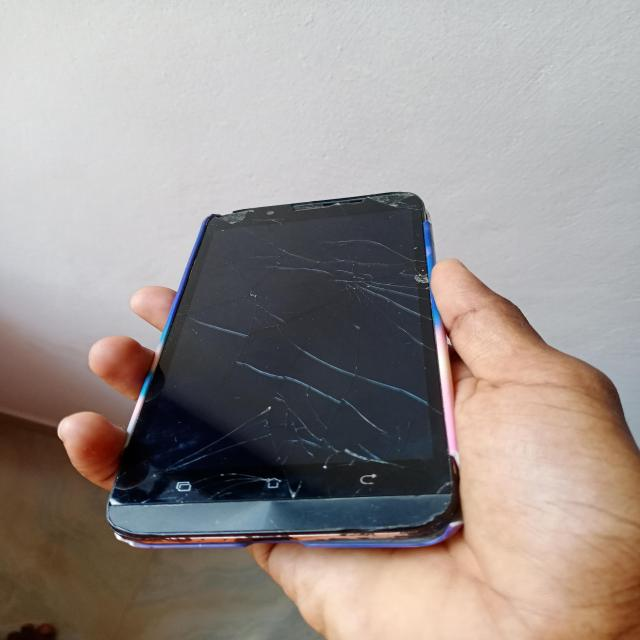mobile: (98, 98, 492, 570)
